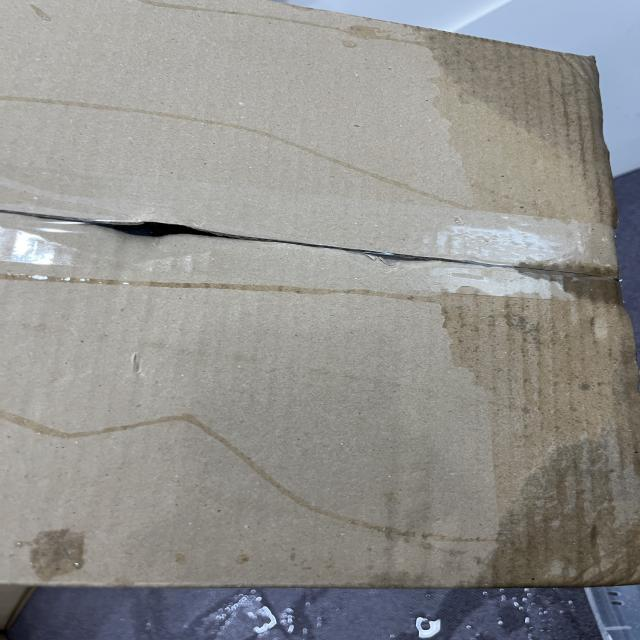wet: (450, 18, 640, 602)
